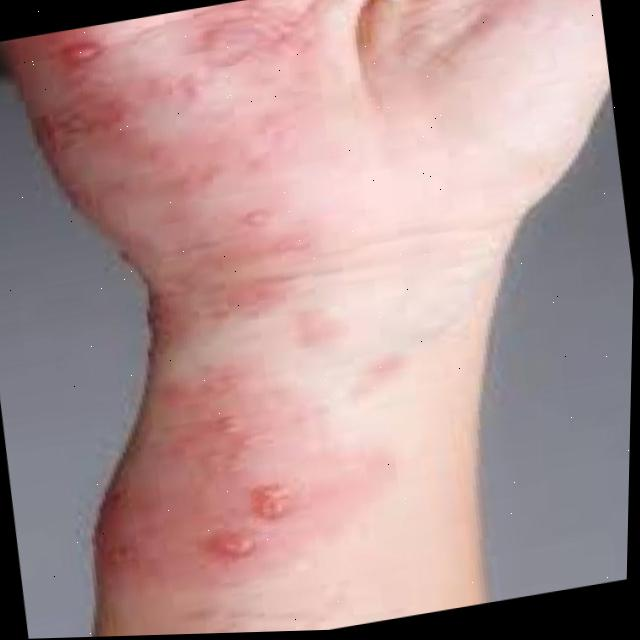Shingles: (33, 0, 320, 596)
